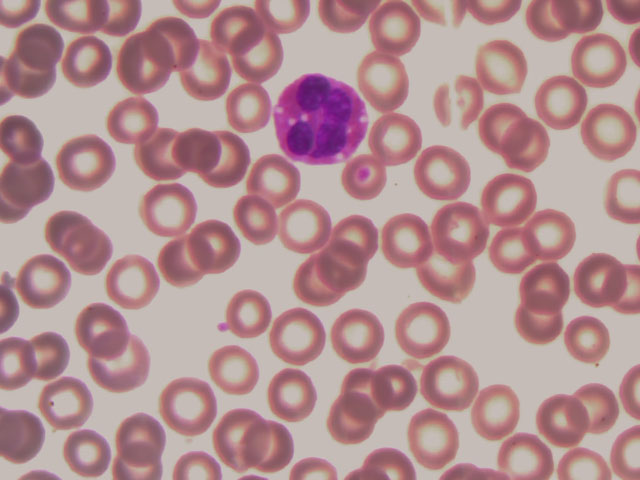Platelets: (215, 318, 228, 336)
RBC: (55, 133, 116, 191), (39, 198, 100, 256), (62, 222, 123, 280), (17, 252, 78, 310), (18, 325, 79, 383), (35, 372, 96, 430), (90, 334, 151, 392), (69, 295, 130, 353), (101, 253, 162, 311), (146, 234, 207, 292), (181, 218, 242, 276), (137, 179, 198, 237), (134, 123, 195, 181), (167, 118, 228, 176), (192, 131, 253, 189), (109, 91, 170, 149), (112, 38, 173, 96), (140, 14, 201, 72), (174, 41, 235, 99), (208, 1, 269, 59), (233, 27, 294, 85), (220, 75, 281, 133), (354, 50, 415, 108), (365, 107, 426, 165), (336, 151, 397, 209), (409, 142, 470, 200), (378, 208, 439, 266), (332, 208, 393, 266), (312, 234, 373, 292), (289, 254, 350, 312), (277, 196, 338, 254), (230, 191, 291, 249), (244, 152, 305, 210), (268, 306, 329, 364), (229, 288, 290, 346), (203, 340, 264, 398), (158, 373, 219, 431), (114, 408, 175, 466), (56, 422, 117, 480), (212, 408, 273, 466), (244, 418, 305, 476), (264, 366, 325, 424), (328, 304, 389, 362), (333, 356, 394, 414), (326, 401, 387, 459), (371, 358, 432, 416), (396, 301, 457, 359), (419, 247, 480, 305), (433, 201, 494, 259), (482, 172, 543, 230), (481, 220, 542, 278), (519, 201, 580, 259), (516, 256, 577, 314), (502, 299, 563, 357), (557, 310, 618, 368), (571, 377, 632, 435), (534, 391, 595, 449), (466, 383, 527, 441), (421, 355, 482, 413), (404, 406, 465, 464), (573, 254, 634, 312), (579, 104, 640, 162), (535, 76, 596, 134), (496, 121, 557, 179), (480, 101, 541, 159), (428, 79, 489, 137), (465, 42, 526, 100), (567, 29, 628, 87), (62, 34, 123, 92), (7, 41, 68, 99), (3, 149, 64, 207), (365, 1, 426, 58), (493, 431, 555, 480)
WBC: (271, 72, 367, 165)
